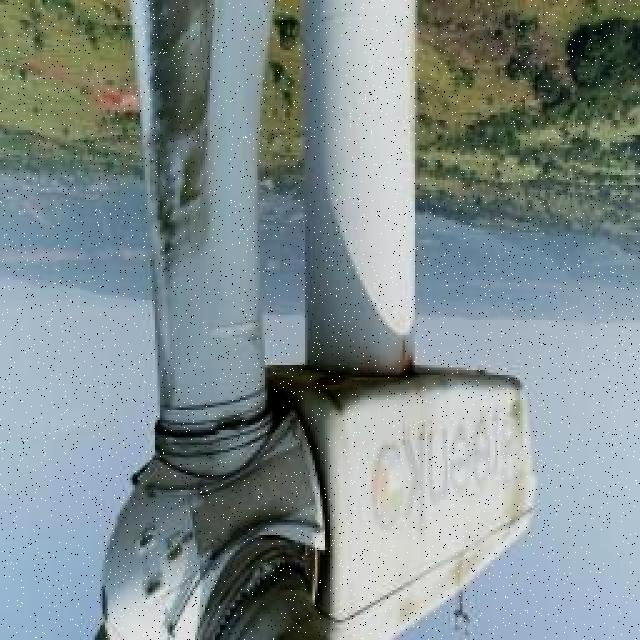Dirt: (135, 0, 222, 271)
